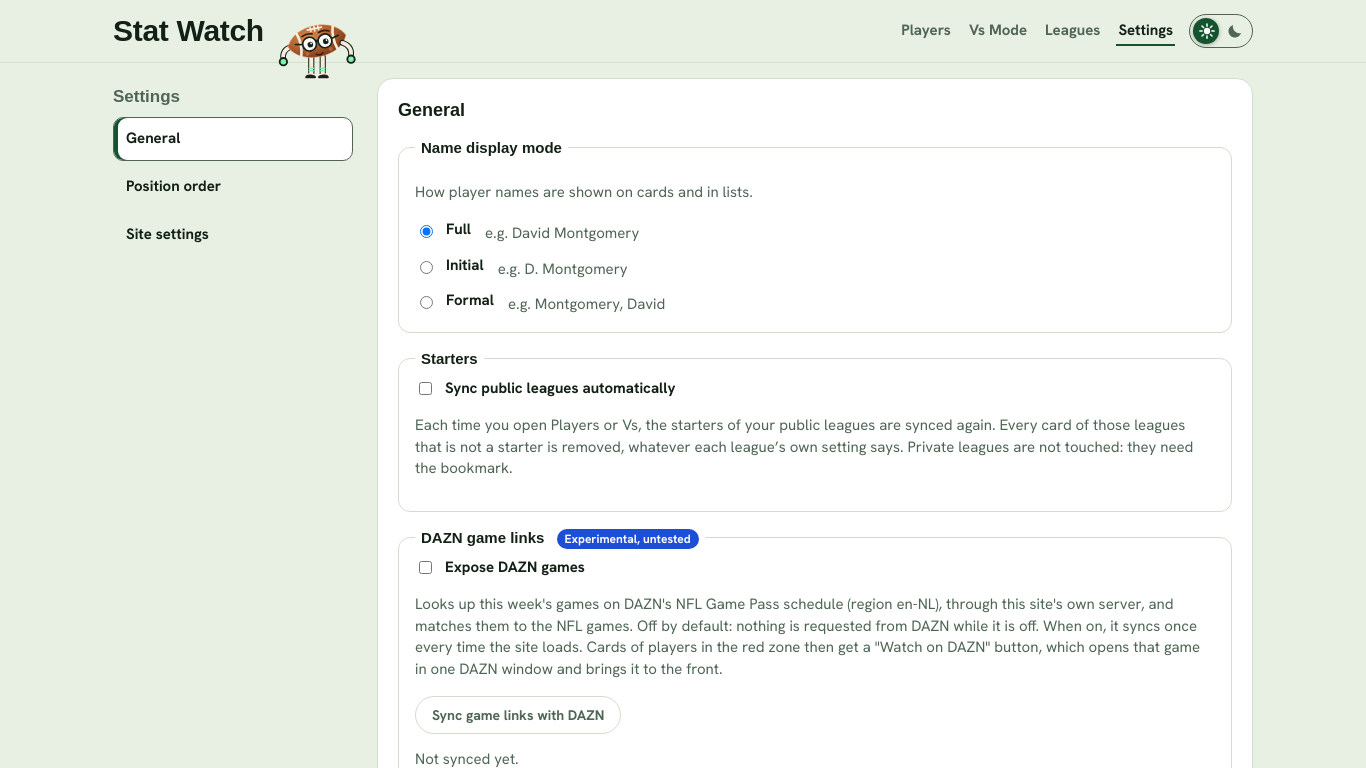
Test: settings page › position order › shows all nine positions in default order and disables moving past either end
This screenshot has width=1366, height=768.
Click the button "Position order": point(233, 187) x1=113 y1=165 x2=353 y2=209
(page scrolled)
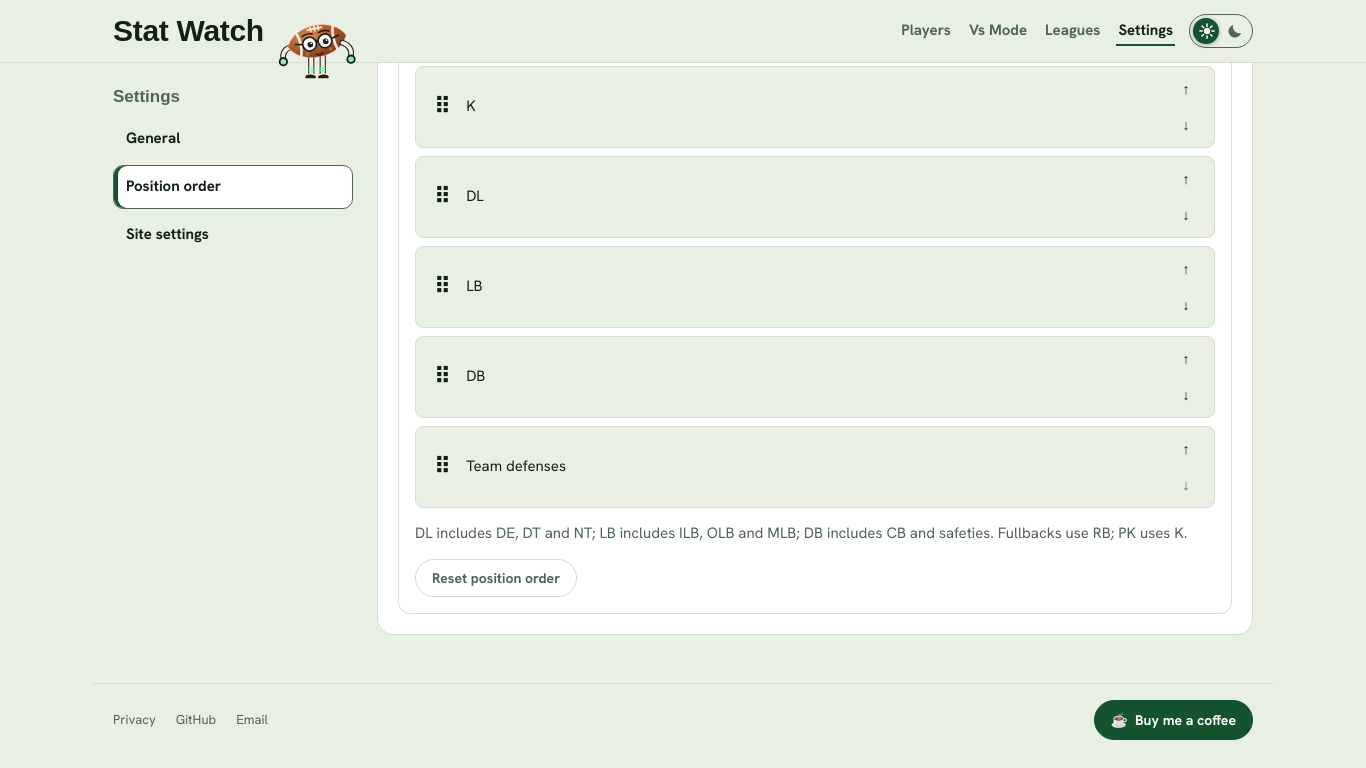
Expected: the button named "Move Team defenses down" is disabled, x1=1168 y1=469 x2=1204 y2=501
